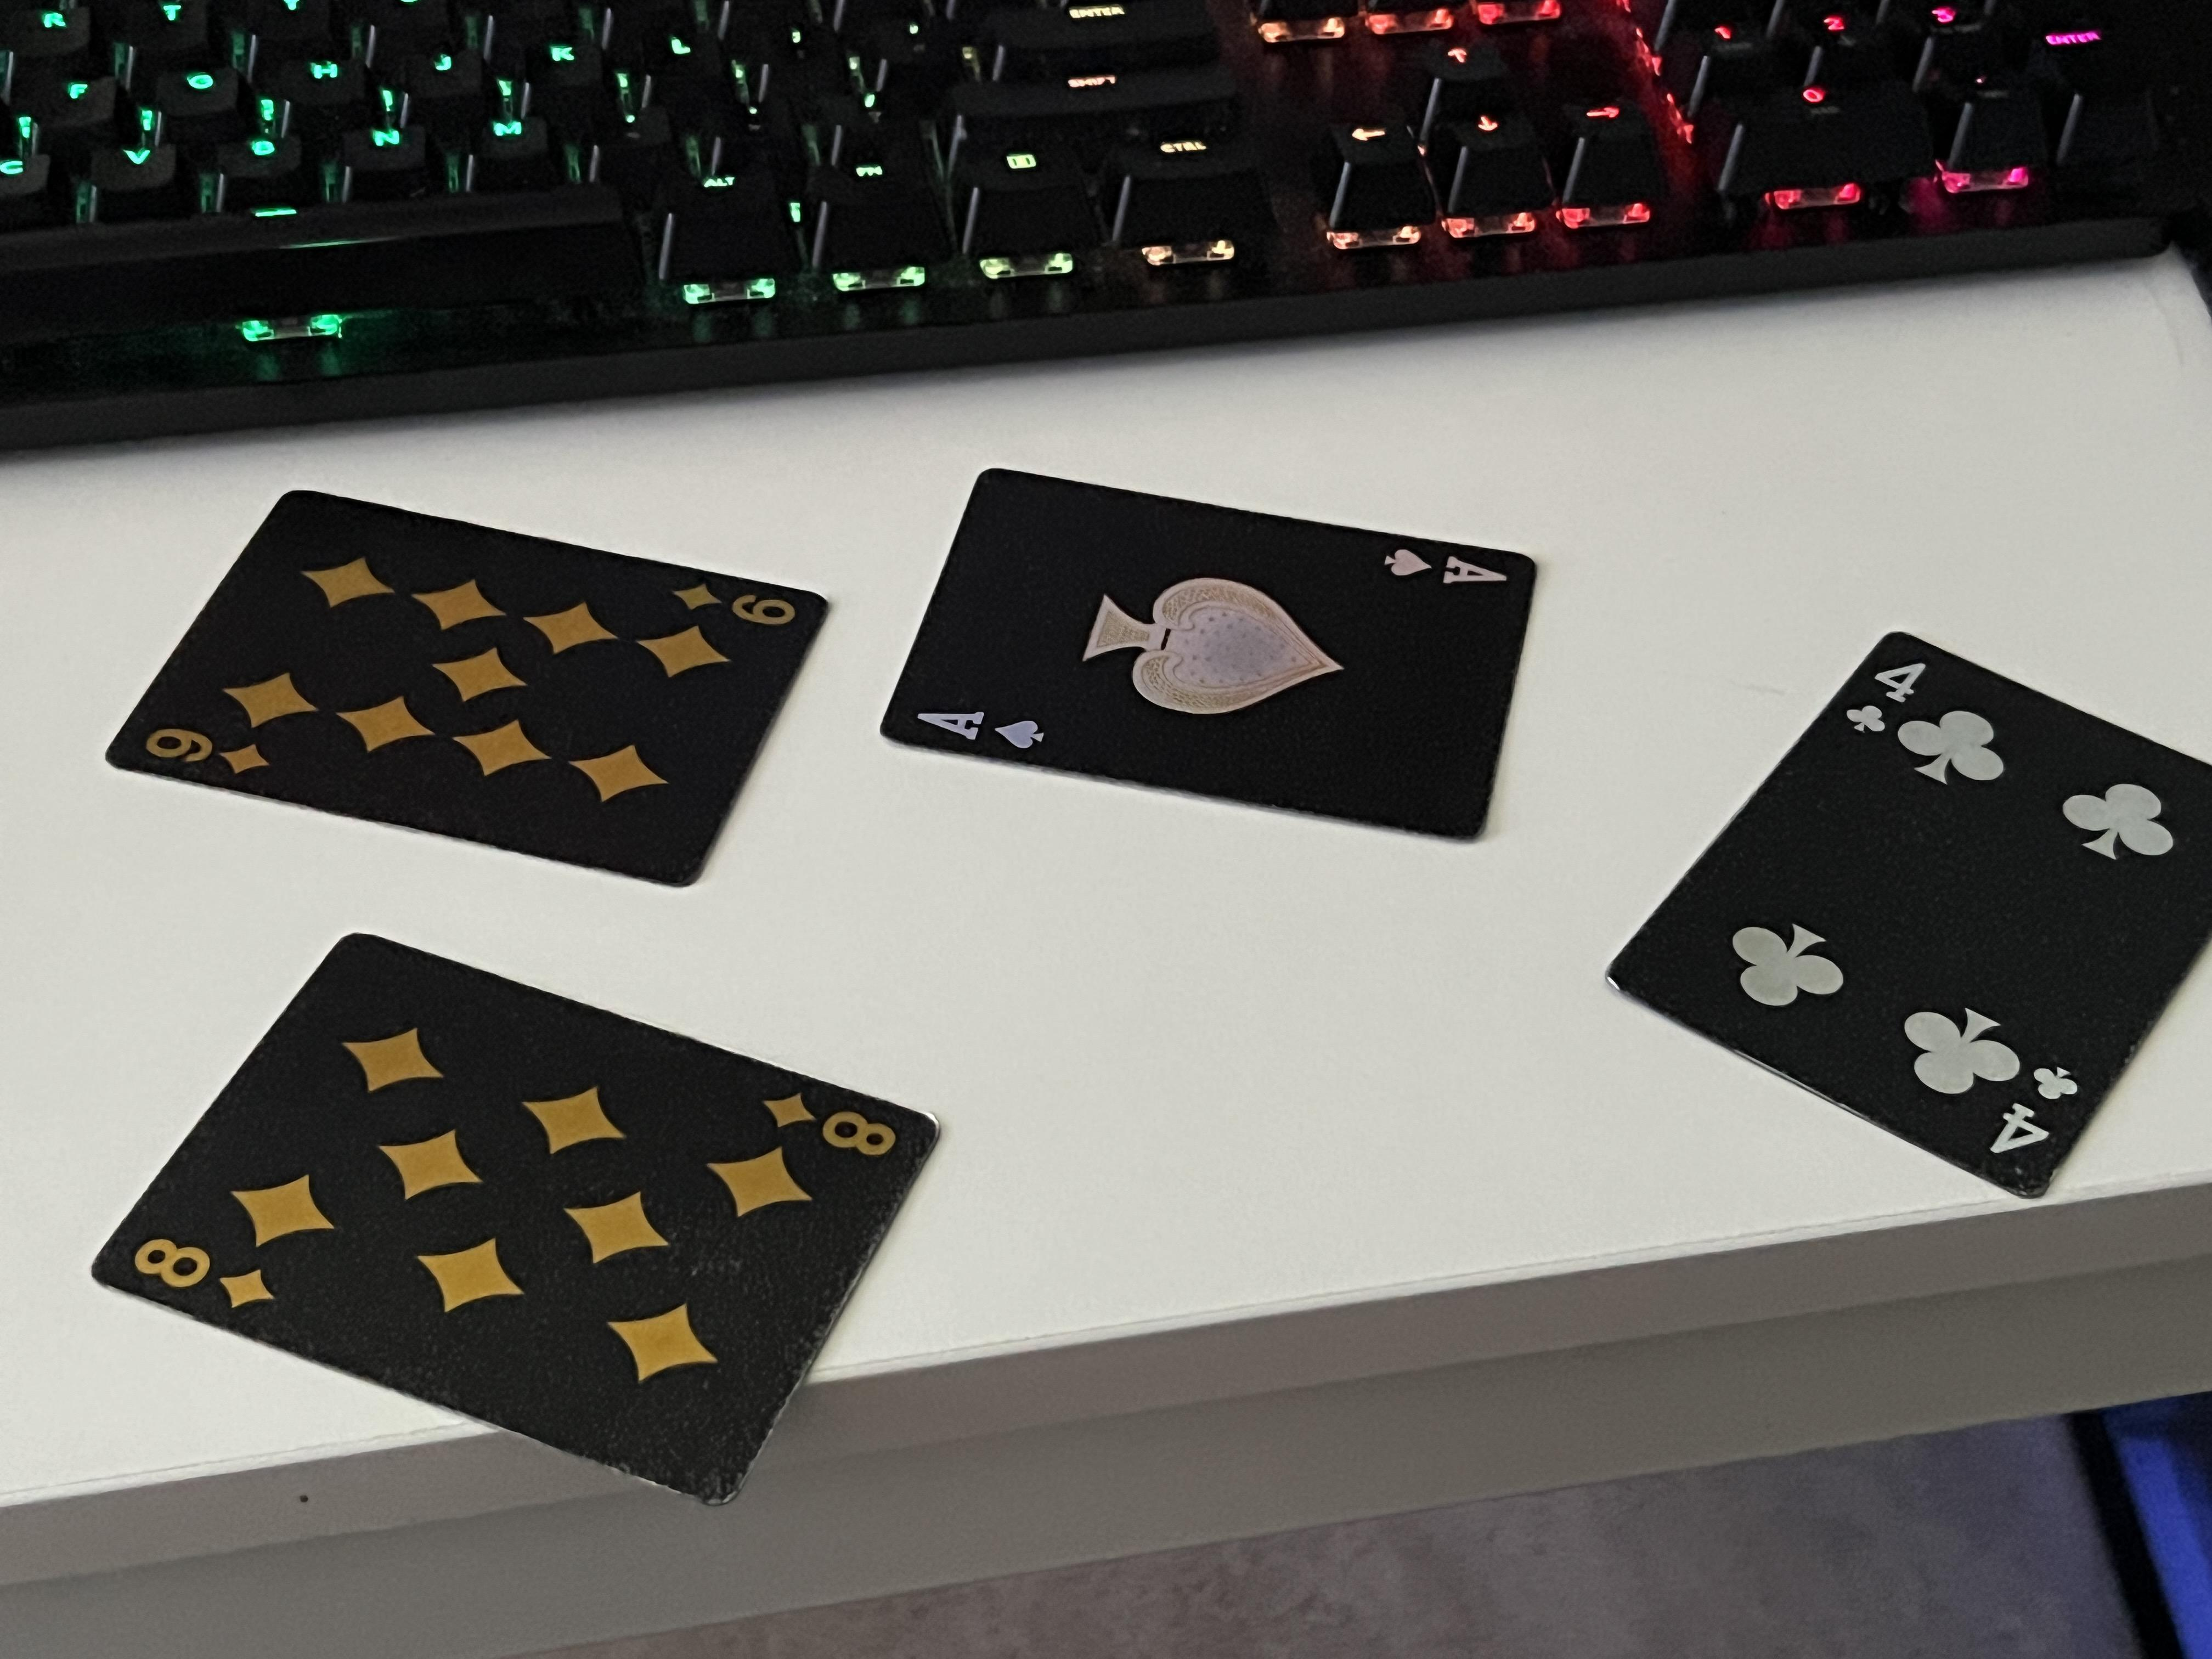4C: (1834, 640, 1940, 749), (1987, 1053, 2074, 1171)
8D: (749, 1072, 920, 1161), (118, 1236, 280, 1314)
9D: (138, 716, 280, 788), (667, 572, 806, 636)
AS: (1372, 535, 1519, 605), (904, 697, 1055, 755)
